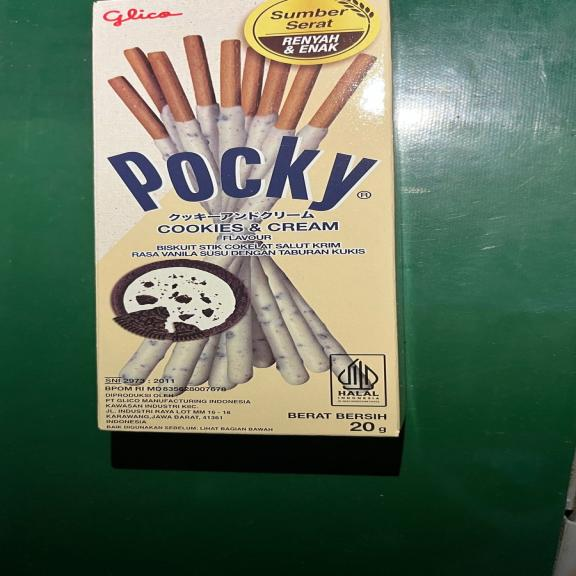Kertas: (88, 0, 408, 444)
